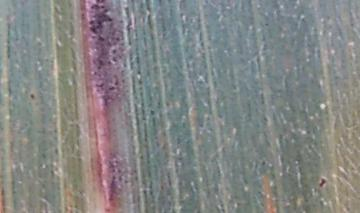tarspot: (85, 1, 114, 42), (318, 177, 327, 188), (96, 58, 104, 70), (110, 47, 118, 55), (260, 159, 267, 167), (263, 21, 270, 28), (29, 93, 35, 101), (348, 21, 356, 27)
